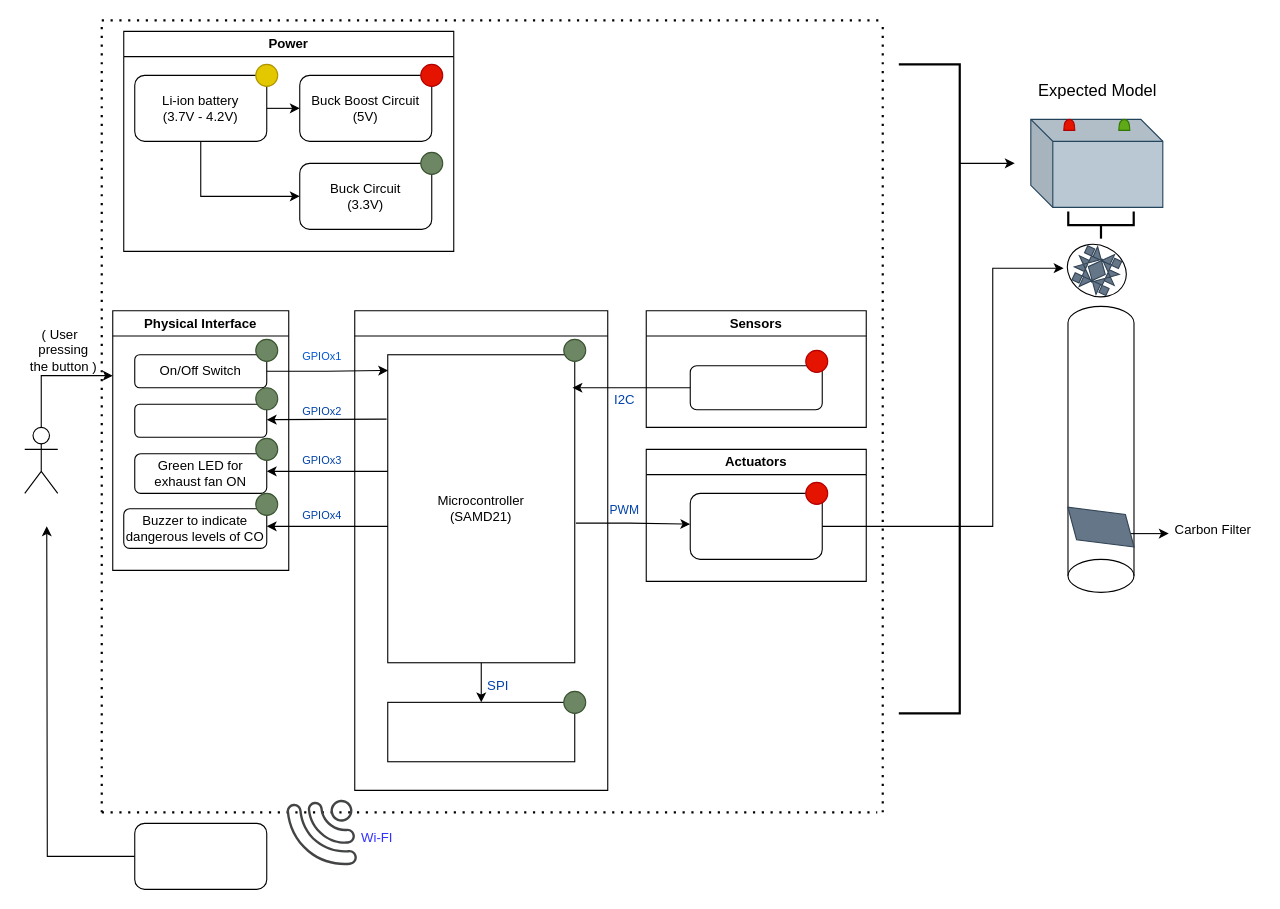
The diagram is 1280 pixels wide and 909 high, and some of its shapes have lost their labels. Here are the shapes that lost their labels. From the top down, the box of each, then its label:
(689, 365, 822, 410): Gas Sensor (MiCS-5524)
(134, 403, 267, 437): On/Off LED
(689, 492, 822, 559): Exhaust/Vent ( K SB0405HBF0D)
(354, 310, 608, 790): SAMW25 Syatem on Chip
(387, 701, 575, 762): Wi-Fi Chip (WINC1500)
(134, 822, 267, 889): Node-Red Dashboard
